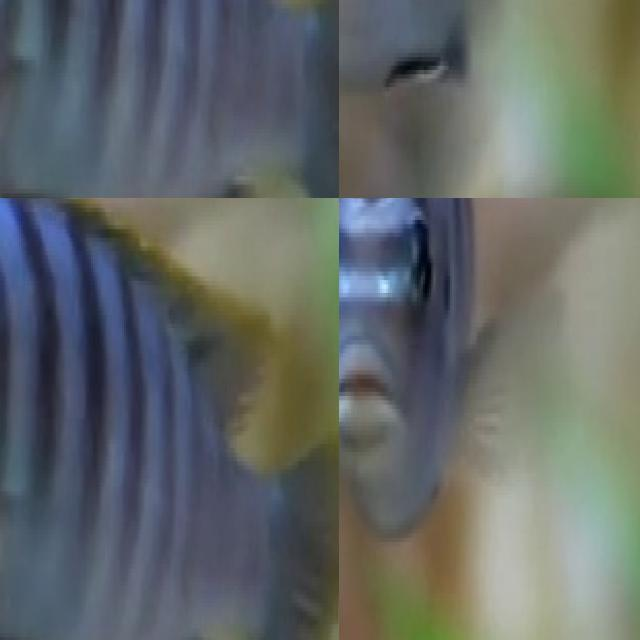fish: (0, 0, 339, 198), (339, 0, 545, 108)
